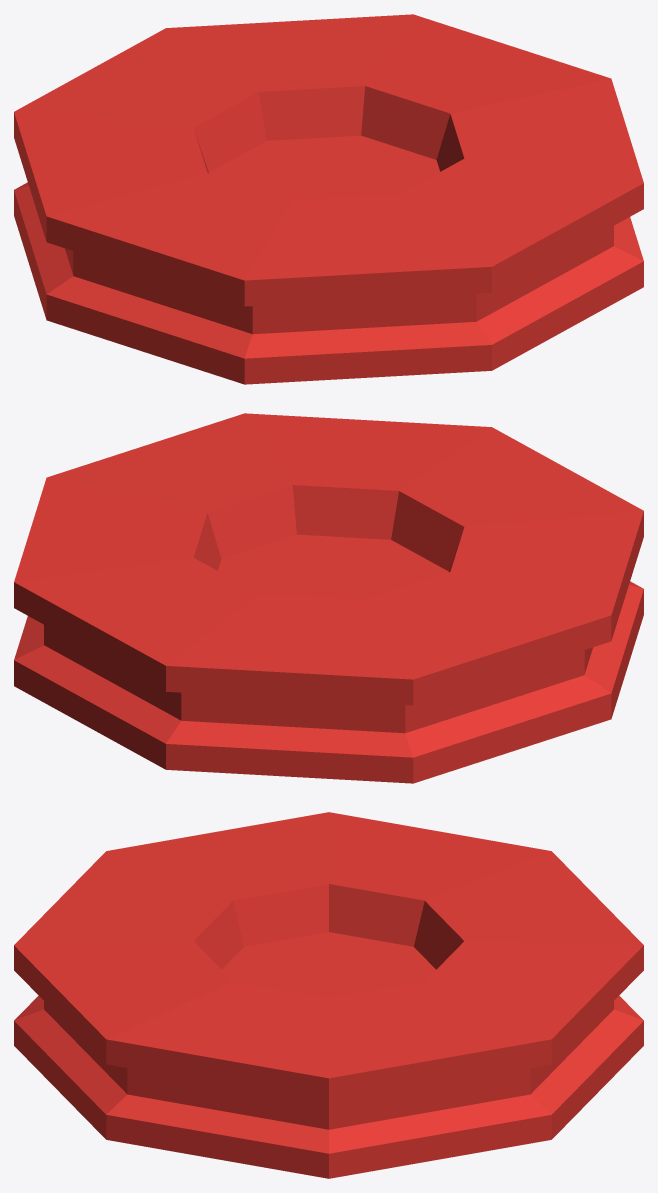
The model's file is SM_Cookie_Jam_Circle.fbx.
The picture shows the model from 3 angles, top to bottom: view 1: azimuth 30°, elevation 25°; view 2: azimuth 150°, elevation 25°; view 3: azimuth 270°, elevation 25°; orthographic projection. The views are drawn at different scales.
Visible parts, largest first — view 1: cookie-jam-circle; view 2: cookie-jam-circle; view 3: cookie-jam-circle.
Boxes of the visible parts, <box> form: cookie-jam-circle: <box>14,14,643,384</box>; cookie-jam-circle: <box>14,413,643,783</box>; cookie-jam-circle: <box>14,812,643,1178</box>.
Bounding box in the file's own units: 0.0495 × 0.00907 × 0.0495.
